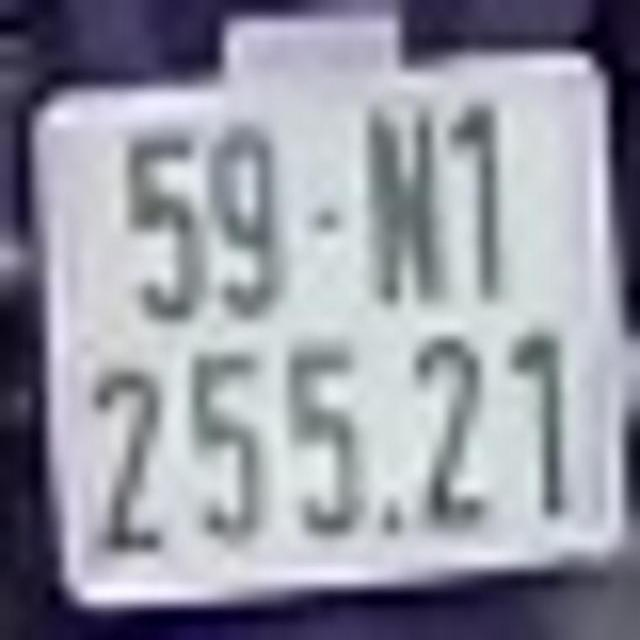1: (511, 324, 581, 534), (453, 99, 510, 303)
2: (408, 334, 491, 516), (89, 362, 164, 553)
5: (283, 332, 370, 534), (126, 138, 207, 322), (197, 346, 262, 543)
9: (212, 132, 288, 319)
N: (360, 107, 452, 320)
